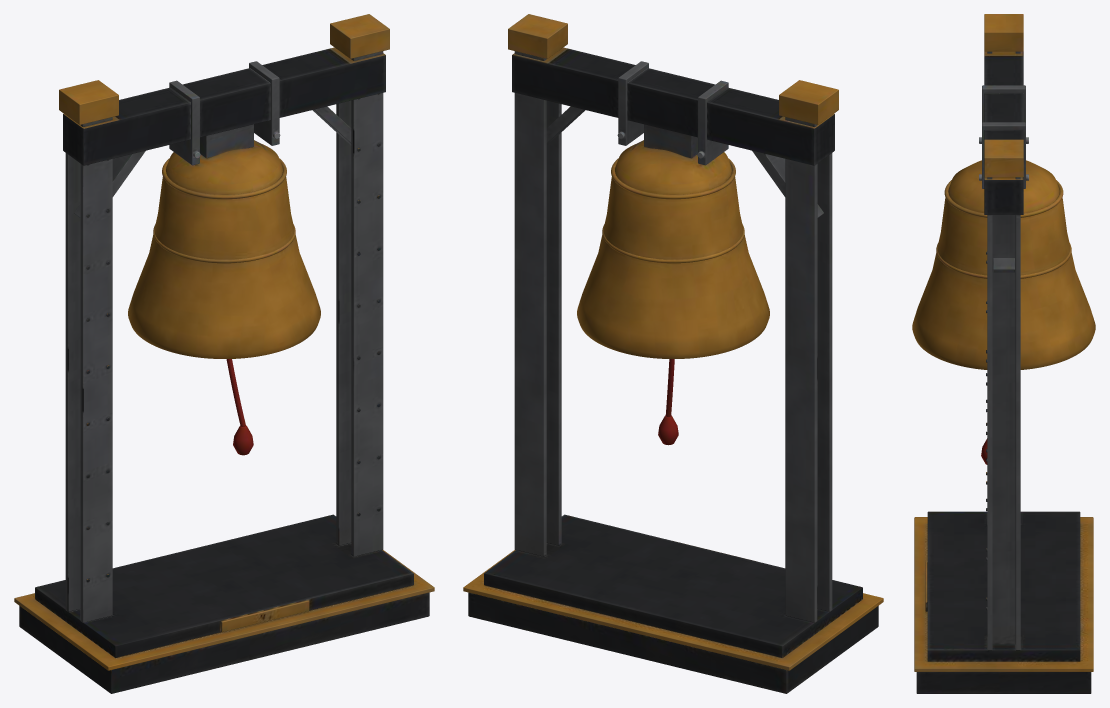
File: floor_bell.glb
3 views of the same model, side by side, from view 1: azimuth 30°, elevation 25°; view 2: azimuth 150°, elevation 25°; view 3: azimuth 270°, elevation 25° (orthographic). The views are drawn at different scales.
Parts seen in each view (by area): view 1: floor_bell; view 2: floor_bell; view 3: floor_bell.
Part boxes in pixels (x1,y1,x2,y2): floor_bell: (14,14,434,693); floor_bell: (463,14,883,693); floor_bell: (912,14,1095,693).
Size of the model in its own units: 1.64 by 2.7 by 0.84.
1 material, 1 textured.
